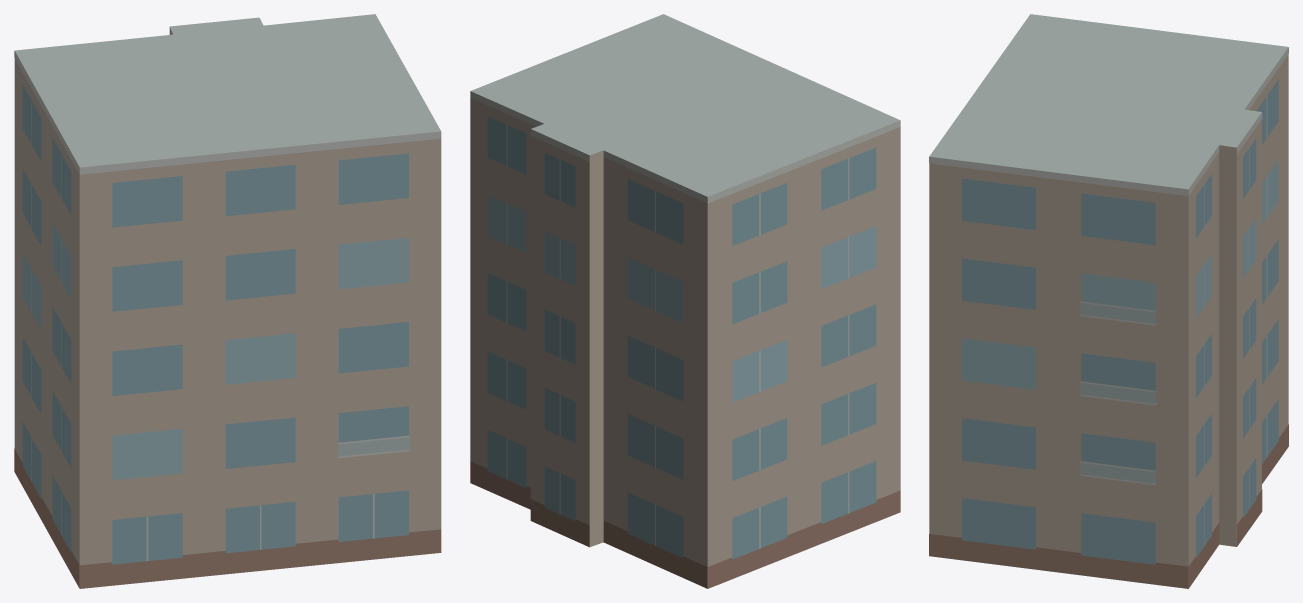
Rendered from survey-upis-32873948.glb.
3 renders of one model, left to right at view 1: azimuth 30°, elevation 25°; view 2: azimuth 150°, elevation 25°; view 3: azimuth 270°, elevation 25°, orthographic. The views are drawn at different scales.
Visible parts, largest first — view 1: survey-upis-32873948.tmp; view 2: survey-upis-32873948.tmp; view 3: survey-upis-32873948.tmp.
Boxes of the visible parts, x1,y1,x2,y2 form: survey-upis-32873948.tmp: (14,14,441,588); survey-upis-32873948.tmp: (470,14,900,588); survey-upis-32873948.tmp: (929,14,1288,588).
Bounding box in the file's own units: 13.62 × 14.45 × 11.8.
